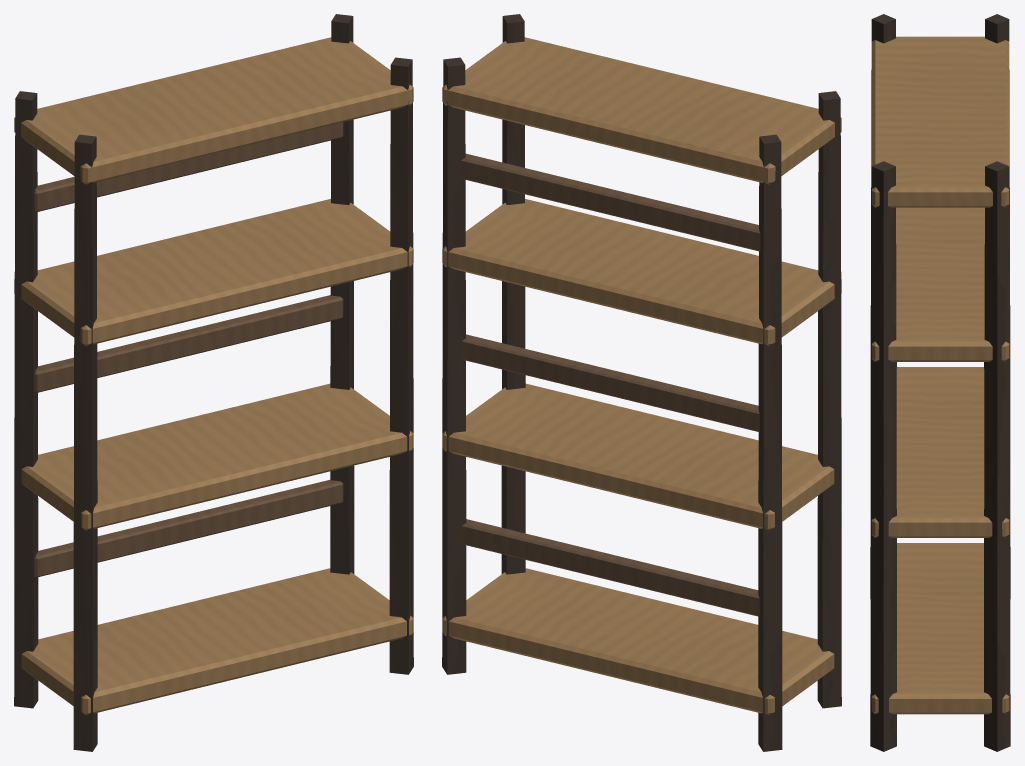
The model's file is PR_Shelf.glb.
The picture shows the model from 3 angles, left to right: view 1: azimuth 30°, elevation 25°; view 2: azimuth 150°, elevation 25°; view 3: azimuth 270°, elevation 25°; orthographic projection. The views are drawn at different scales.
Parts seen in each view (by area): view 1: PR_Shelf; view 2: PR_Shelf; view 3: PR_Shelf.
Part boxes in pixels (box(x1,y1,x2,y2)): PR_Shelf: box(14, 14, 413, 751); PR_Shelf: box(442, 14, 841, 751); PR_Shelf: box(870, 14, 1010, 751).
Size of the model in its own units: 0.926 by 1.58 by 0.346.
3 materials, 3 textured.
